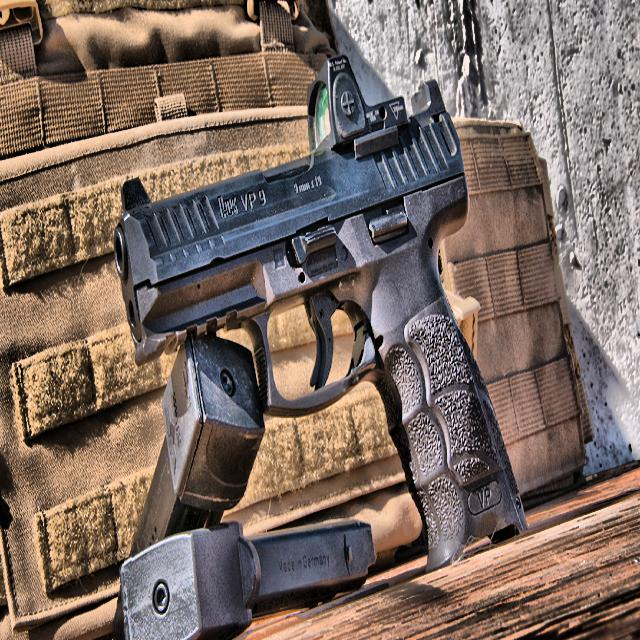HKVP9: (92, 95, 533, 557)
